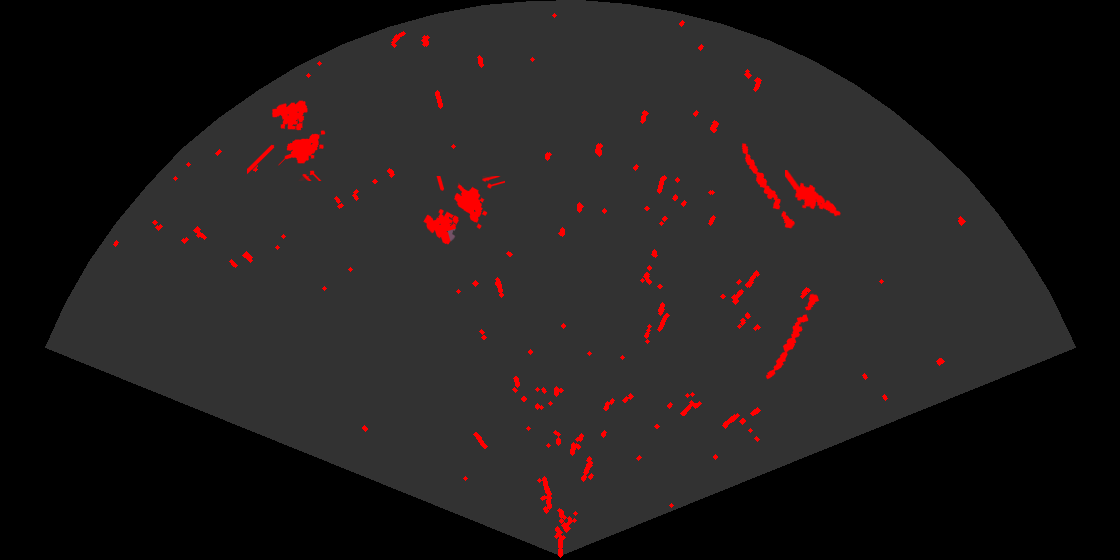cage: (247, 99, 327, 181), (422, 176, 505, 246)
chain: (764, 292, 821, 381), (740, 142, 797, 230)
frogman: (785, 170, 842, 218)
